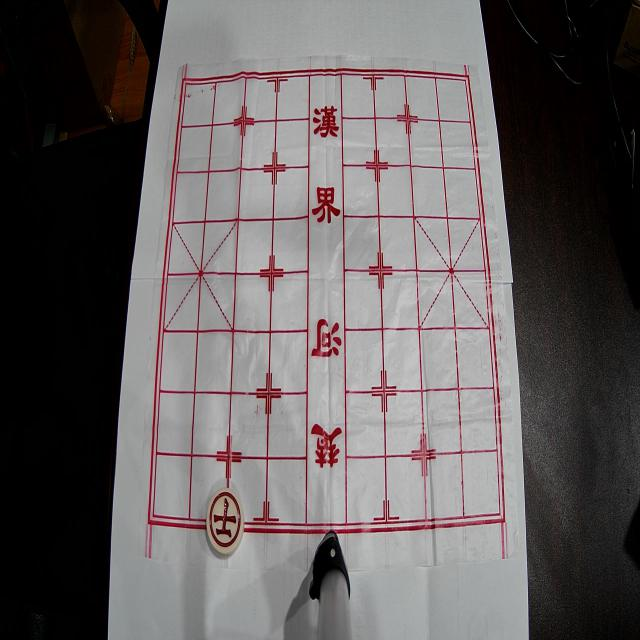red-guard: (207, 488, 244, 556)
